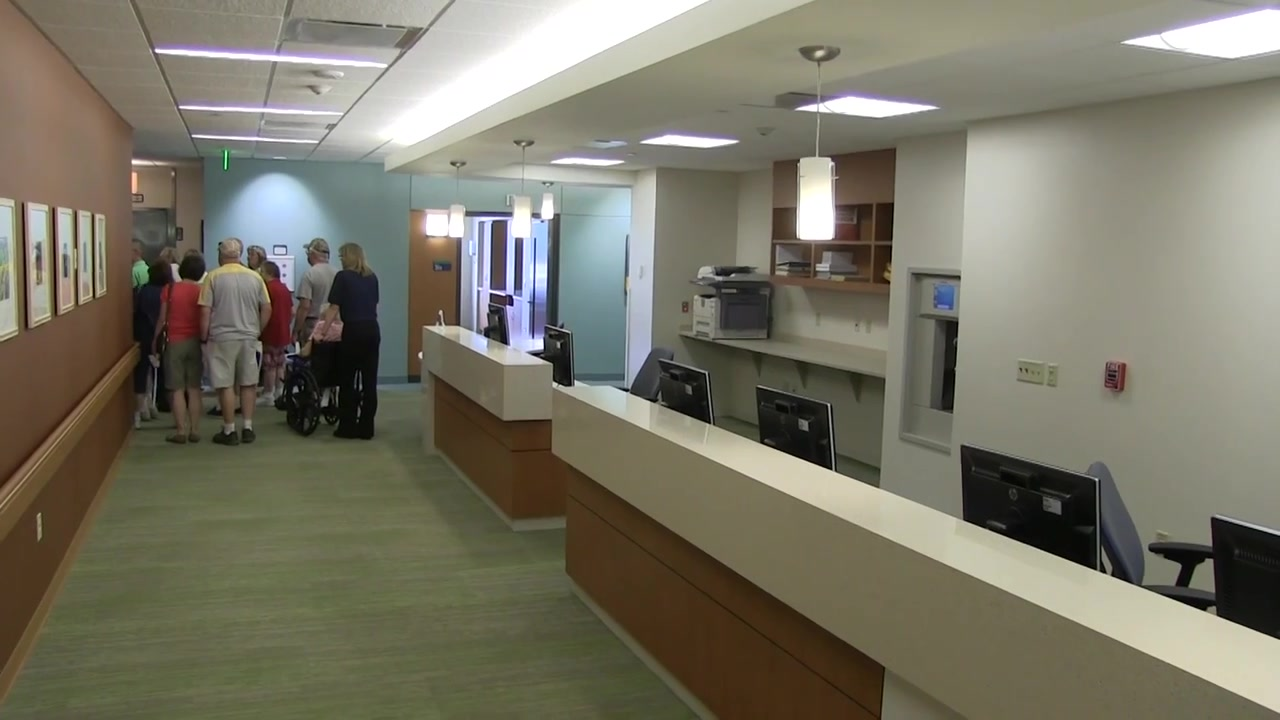chair: (1090, 448, 1208, 600), (625, 344, 678, 402)
computer: (952, 435, 1100, 549), (1213, 496, 1280, 627), (755, 382, 841, 467), (653, 358, 717, 427), (538, 322, 576, 388), (484, 301, 512, 347)
counter: (556, 383, 1280, 715), (422, 328, 555, 527)
countertop: (551, 389, 1075, 634), (673, 328, 886, 383), (422, 326, 553, 367)
hallway_assist_bar: (1, 342, 140, 542)
person: (197, 240, 273, 444), (329, 241, 388, 441), (151, 256, 205, 442), (290, 236, 329, 445), (274, 304, 343, 411), (134, 262, 174, 428), (256, 260, 296, 401), (217, 236, 251, 270), (265, 255, 295, 293), (131, 239, 150, 298), (246, 244, 267, 270), (158, 245, 181, 263), (184, 248, 204, 257)
